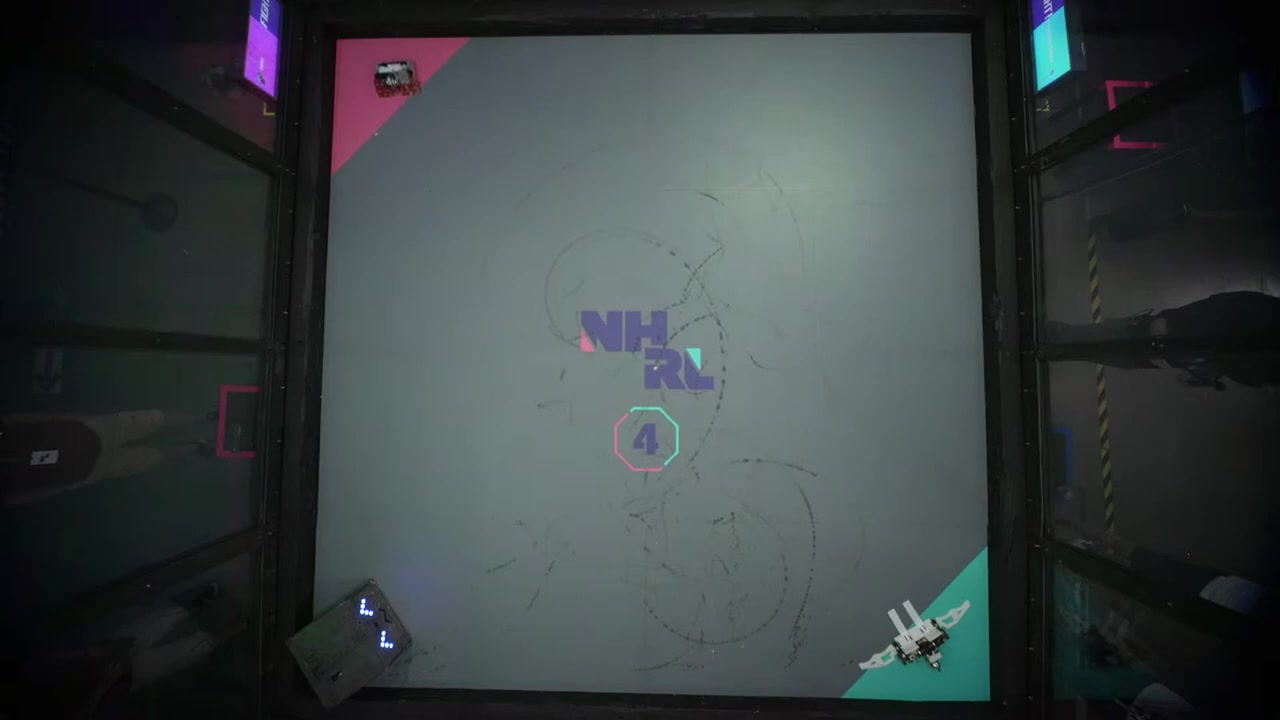combatbot: (859, 594, 974, 672), (373, 60, 421, 100)
housebot: (286, 576, 416, 710)
